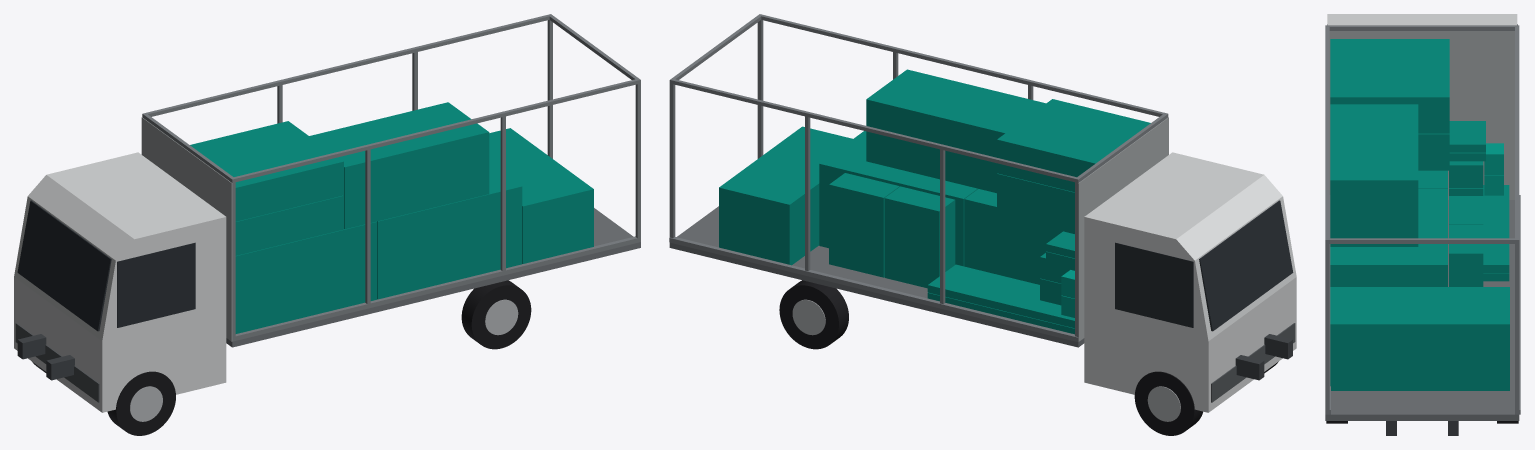
File: caminhao-BL01.glb
3 renders of one model, left to right at view 1: azimuth 30°, elevation 25°; view 2: azimuth 150°, elevation 25°; view 3: azimuth 270°, elevation 25°, orthographic. The views are drawn at different scales.
Parts seen in each view (by area): view 1: cabine, part35, part32, part31, part34, part36, part21, janela, frente, part33, piso, part13 (+15 smaller); view 2: cabine, part35, part36, part34, part21, part31, part39, part40, janela, piso, part32, frente (+20 smaller); view 3: part36, part35, part34, frente, piso, part32, cabine, part38, part40, part33, part44, part17 (+15 smaller).
Boxes of the visible parts, left/top/right/bottom form: cabine: left=14, top=152, right=226, bottom=412; part35: left=309, top=102, right=489, bottom=229; part32: left=377, top=162, right=522, bottom=299; part31: left=235, top=221, right=377, bottom=333; part34: left=190, top=121, right=343, bottom=221; part36: left=489, top=128, right=593, bottom=263; part21: left=17, top=200, right=111, bottom=331; janela: left=117, top=242, right=195, bottom=327; frente: left=141, top=117, right=232, bottom=341; part33: left=235, top=195, right=343, bottom=255; piso: left=226, top=208, right=640, bottom=347; part13: left=233, top=236, right=640, bottom=340; cabine: left=1084, top=152, right=1296, bottom=412; part35: left=866, top=69, right=1045, bottom=193; part36: left=719, top=126, right=852, bottom=265; part34: left=997, top=99, right=1150, bottom=192; part21: left=1199, top=200, right=1293, bottom=331; part31: left=964, top=189, right=1074, bottom=284; part39: left=884, top=186, right=955, bottom=288; part40: left=829, top=173, right=899, bottom=277; janela: left=1115, top=242, right=1193, bottom=327; piso: left=669, top=206, right=1084, bottom=347; part32: left=819, top=131, right=978, bottom=266; frente: left=1078, top=117, right=1168, bottom=341; part36: left=1330, top=287, right=1509, bottom=390; part35: left=1330, top=104, right=1418, bottom=246; part34: left=1330, top=39, right=1449, bottom=133; frente: left=1329, top=31, right=1514, bottom=199; piso: left=1325, top=200, right=1519, bottom=420; part32: left=1330, top=189, right=1447, bottom=286; cabine: left=1327, top=14, right=1517, bottom=25; part38: left=1483, top=185, right=1509, bottom=272; part40: left=1449, top=225, right=1483, bottom=286; part33: left=1418, top=133, right=1449, bottom=170; part44: left=1449, top=121, right=1485, bottom=152; part17: left=1325, top=238, right=1519, bottom=243.
Size of the model in its own units: 9.04 by 3.61 by 2.53.
